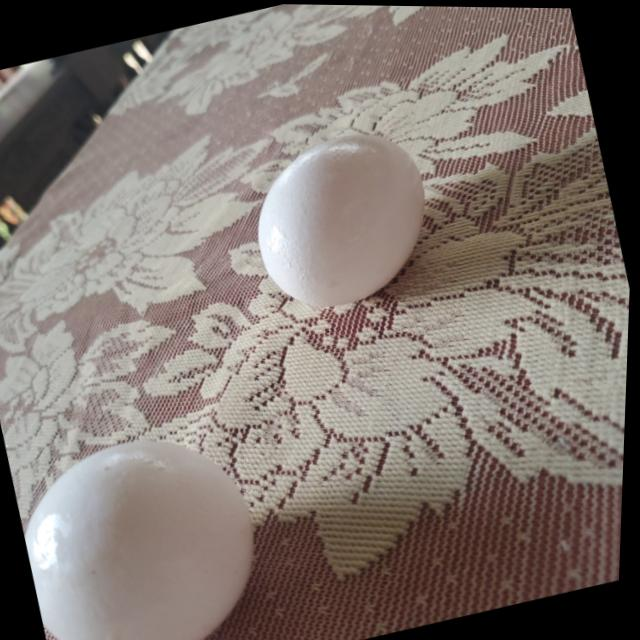egg: (10, 415, 289, 640), (244, 119, 450, 314)
